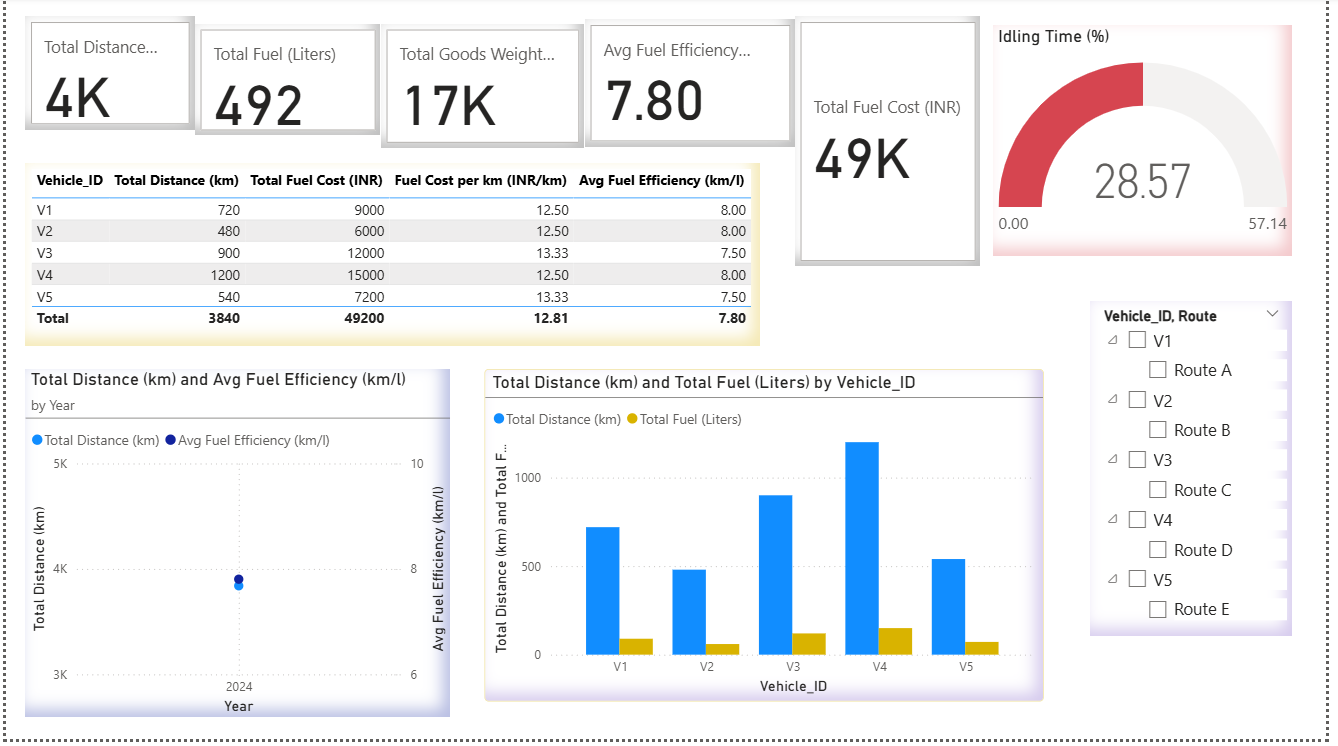

This screenshot's page, from the dashboard's own definition file:
{"tool":"powerbi","page":{"name":"Transport Performance Analysis Dashboard","canvas":[1280,720],"ordinal":0},"visuals":[{"type":"cardVisual","fields":{"Data":["sample_transport_dataset.Total Distance (km)"]},"box":[18.9,18.9,164.9,109.9],"z":0},{"type":"cardVisual","fields":{"Data":["sample_transport_dataset.Total Fuel (Liters)"]},"box":[183.8,25.8,180.3,108.2],"z":1000},{"type":"cardVisual","fields":{"Data":["sample_transport_dataset.Total Goods Weight (kg)"]},"box":[364.1,25.8,197.5,120.2],"z":2000},{"type":"cardVisual","fields":{"Data":["sample_transport_dataset.Avg Fuel Efficiency (km/l)"]},"box":[561.6,22.3,204.4,123.7],"z":3000},{"type":"cardVisual","fields":{"Data":["sample_transport_dataset.Total Fuel Cost (INR)"]},"box":[765.9,18.9,180.3,242.1],"z":4000},{"type":"lineChart","fields":{"Category":["sample_transport_dataset.Date.Variation.Date Hierarchy.Year","sample_transport_dataset.Date.Variation.Date Hierarchy.Quarter","sample_transport_dataset.Date.Variation.Date Hierarchy.Month","sample_transport_dataset.Date.Variation.Date Hierarchy.Day"],"Y":["sample_transport_dataset.Total Distance (km)"],"Y2":["sample_transport_dataset.Avg Fuel Efficiency (km/l)"]},"box":[18.9,360.6,412.2,338.3],"z":5000},{"type":"clusteredColumnChart","fields":{"Category":["sample_transport_dataset.Route","sample_transport_dataset.Vehicle_ID"],"Y":["sample_transport_dataset.Total Distance (km)","sample_transport_dataset.Total Fuel (Liters)"]},"box":[463.7,360.6,542.7,322.9],"z":6000},{"type":"gauge","fields":{"Y":["sample_transport_dataset.Idling Time (%)"]},"box":[958.3,27.5,290.2,223.3],"z":7000},{"type":"tableEx","fields":{"Values":["sample_transport_dataset.Vehicle_ID","sample_transport_dataset.Total Distance (km)","sample_transport_dataset.Total Fuel Cost (INR)","sample_transport_dataset.Fuel Cost per km (INR/km)","sample_transport_dataset.Avg Fuel Efficiency (km/l)"]},"box":[18.9,161.4,712.7,176.9],"z":8000},{"type":"slicer","fields":{"Values":["sample_transport_dataset.Vehicle_ID","sample_transport_dataset.Route"]},"box":[1052.7,295.4,195.8,324.6],"z":9000}]}

Visuals, with their boxes in screenshot pixels (x1, y1, x2, y2), scaled from the page's 1280x720 canvas onto the 1338x746 screenshot:
cardVisual - sample_transport_dataset.Total Distance (km): {"x1": 20, "y1": 20, "x2": 192, "y2": 133}
cardVisual - sample_transport_dataset.Total Fuel (Liters): {"x1": 192, "y1": 27, "x2": 381, "y2": 139}
cardVisual - sample_transport_dataset.Total Goods Weight (kg): {"x1": 381, "y1": 27, "x2": 587, "y2": 151}
cardVisual - sample_transport_dataset.Avg Fuel Efficiency (km/l): {"x1": 587, "y1": 23, "x2": 801, "y2": 151}
cardVisual - sample_transport_dataset.Total Fuel Cost (INR): {"x1": 801, "y1": 20, "x2": 989, "y2": 270}
lineChart - sample_transport_dataset.Date.Variation.Date Hierarchy.Year x sample_transport_dataset.Date.Variation.Date Hierarchy.Quarter: {"x1": 20, "y1": 374, "x2": 451, "y2": 724}
clusteredColumnChart - sample_transport_dataset.Route x sample_transport_dataset.Vehicle_ID: {"x1": 485, "y1": 374, "x2": 1052, "y2": 708}
gauge - sample_transport_dataset.Idling Time (%): {"x1": 1002, "y1": 28, "x2": 1305, "y2": 260}
tableEx - sample_transport_dataset.Vehicle_ID x sample_transport_dataset.Total Distance (km): {"x1": 20, "y1": 167, "x2": 765, "y2": 351}
slicer - sample_transport_dataset.Vehicle_ID x sample_transport_dataset.Route: {"x1": 1100, "y1": 306, "x2": 1305, "y2": 642}
